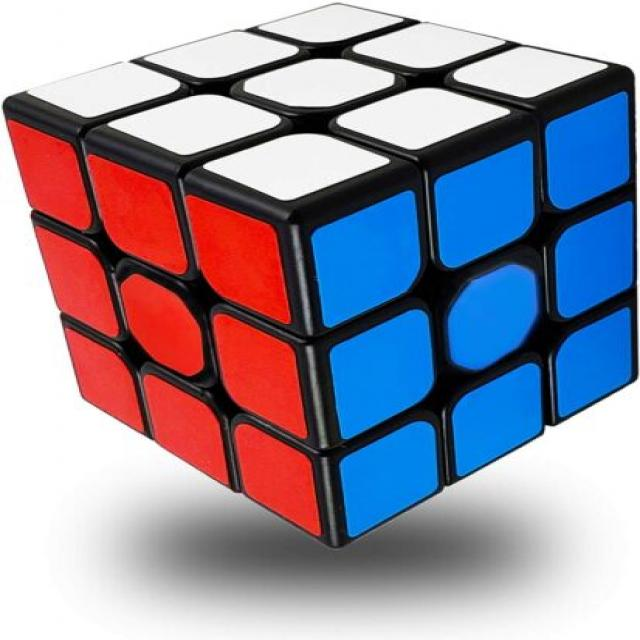cube: (17, 10, 640, 482)
